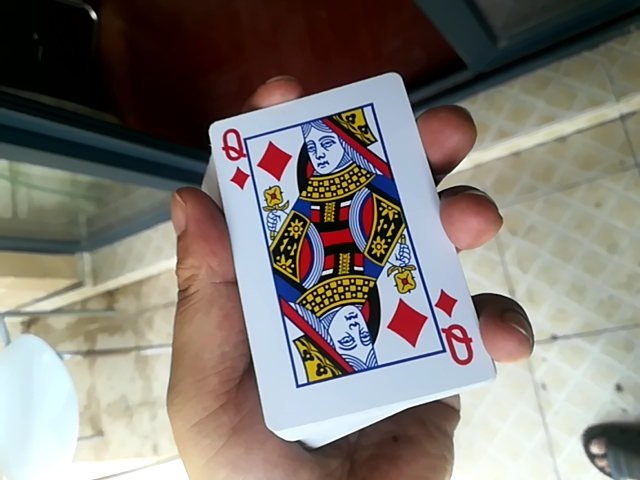fk q: (201, 74, 474, 445)
